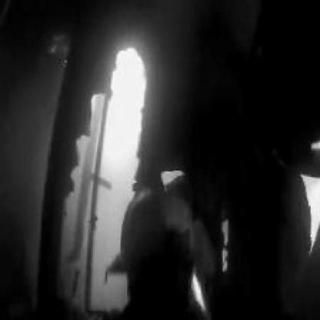other: (146, 172, 236, 286)
